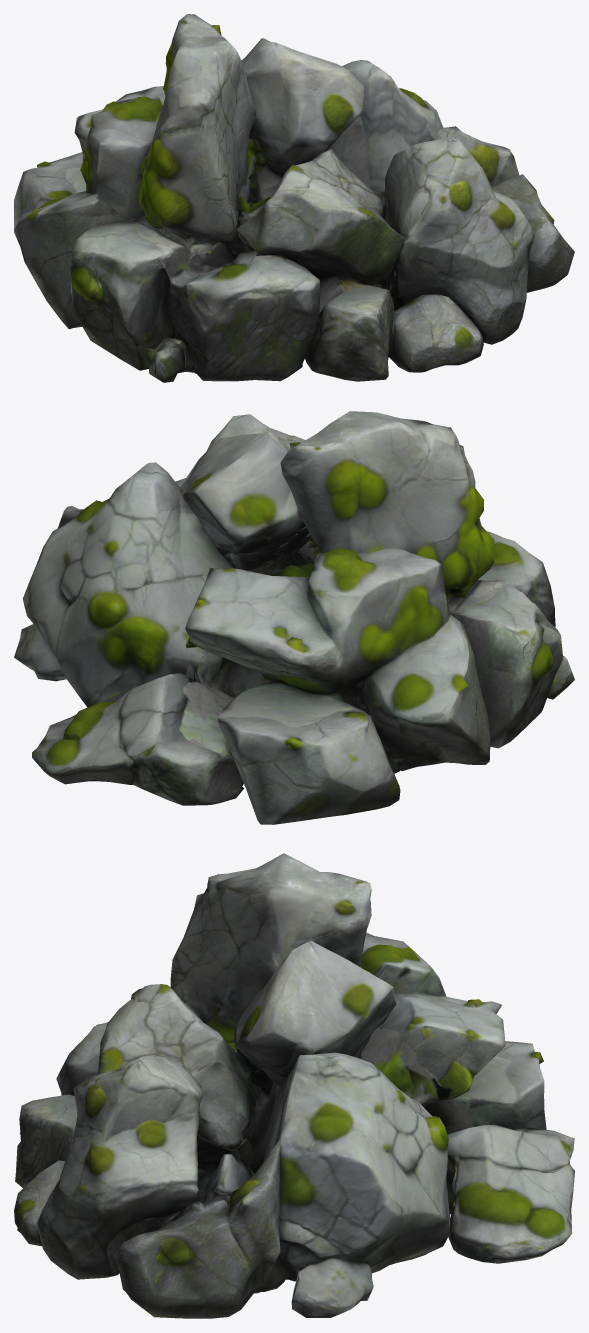
File: Rock3.fbx
3 views of the same model, one above another, from view 1: azimuth 30°, elevation 25°; view 2: azimuth 150°, elevation 25°; view 3: azimuth 270°, elevation 25° (orthographic). The views are drawn at different scales.
Parts seen in each view (by area): view 1: Mesh_0; view 2: Mesh_0; view 3: Mesh_0.
Boxes of the visible parts, bbox=[...] form: Mesh_0: bbox=[14, 14, 574, 382]; Mesh_0: bbox=[14, 411, 574, 824]; Mesh_0: bbox=[14, 853, 574, 1318].
Bounding box in the file's own units: 198 × 114 × 191.
1 material, 1 textured.
